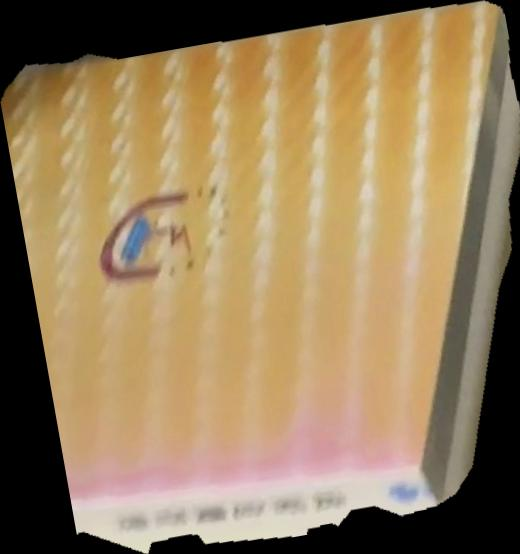flat: (1, 1, 520, 554)
